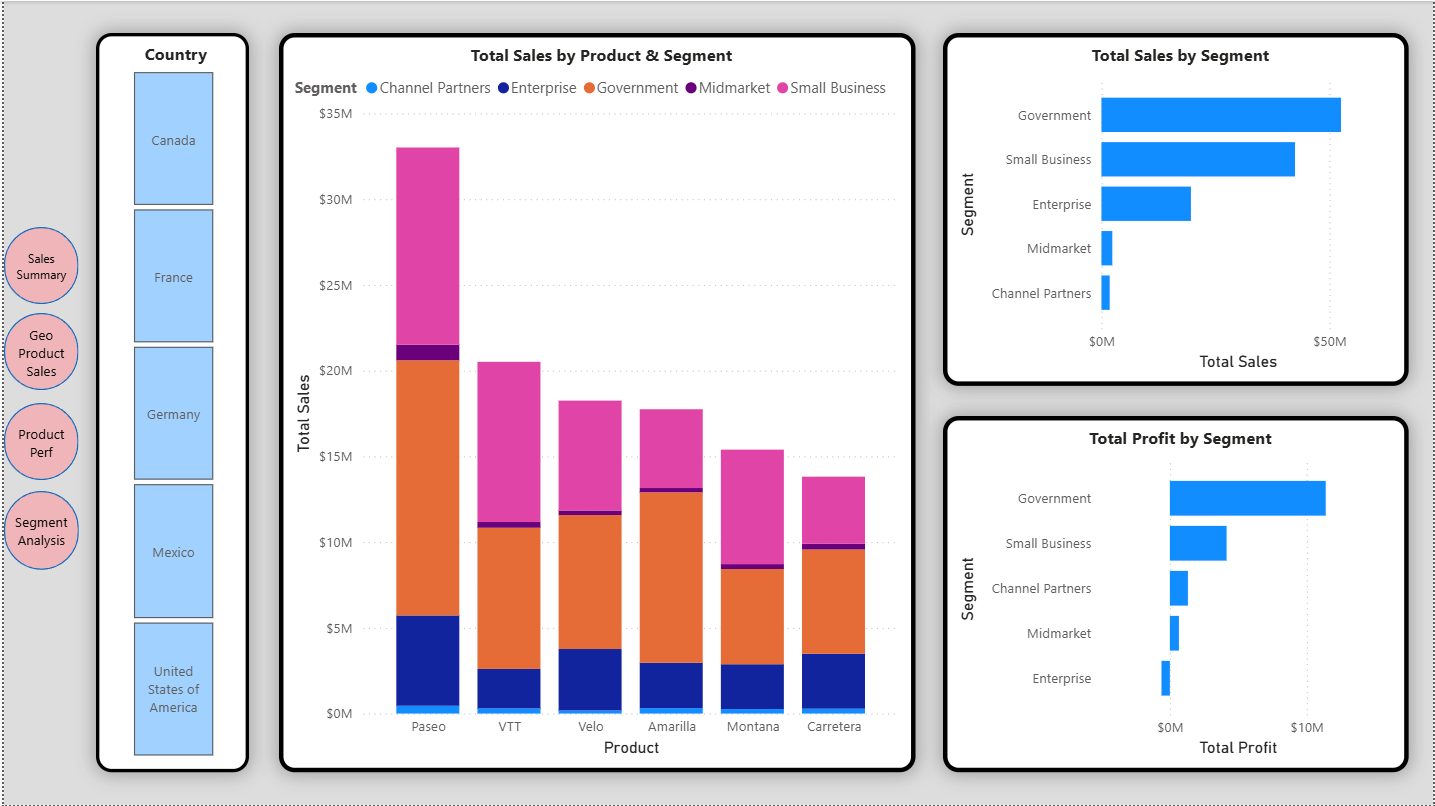

The page's visual inventory and layout, read from the dashboard file:
{"tool":"powerbi","page":{"name":"Segment Analysis","canvas":[1280,720],"ordinal":3},"visuals":[{"type":"barChart","fields":{"Category":["Sheet2.Segment"],"Y":["financials.Total Sales"]},"box":[840.9,28.7,417.3,316.1],"z":0},{"type":"barChart","fields":{"Category":["Sheet2.Segment"],"Y":["financials.Total Profit"]},"box":[840.9,371.6,417.3,318.8],"z":1000},{"type":"slicer","title":"Country","fields":{"Values":["financials.Country"]},"box":[82.4,28.7,137,661.8],"z":2000},{"type":"columnChart","title":"Total Sales by Product & Segment","fields":{"Category":["financials.Product"],"Series":["financials.Segment"],"Y":["financials.Total Sales"]},"box":[246.3,28.7,569.6,661.8],"z":3000},{"type":"shape","box":[0,438.4,67,70.5],"z":4000},{"type":"shape","box":[0,359.7,67,69.3],"z":5000},{"type":"shape","box":[0,202.2,67,69.3],"z":6000},{"type":"shape","box":[0,279.7,67,69.3],"z":7000}]}

Visuals, with their boxes in screenshot pixels (x1, y1, x2, y2), scaled from the page's 1280x720 canvas onto the 1435x806 screenshot:
barChart - Sheet2.Segment x financials.Total Sales: 943/32/1411/386
barChart - Sheet2.Segment x financials.Total Profit: 943/416/1411/773
"Country" slicer: 92/32/246/773
"Total Sales by Product & Segment" columnChart: 276/32/915/773
shape: 0/491/75/570
shape: 0/403/75/480
shape: 0/226/75/304
shape: 0/313/75/391
